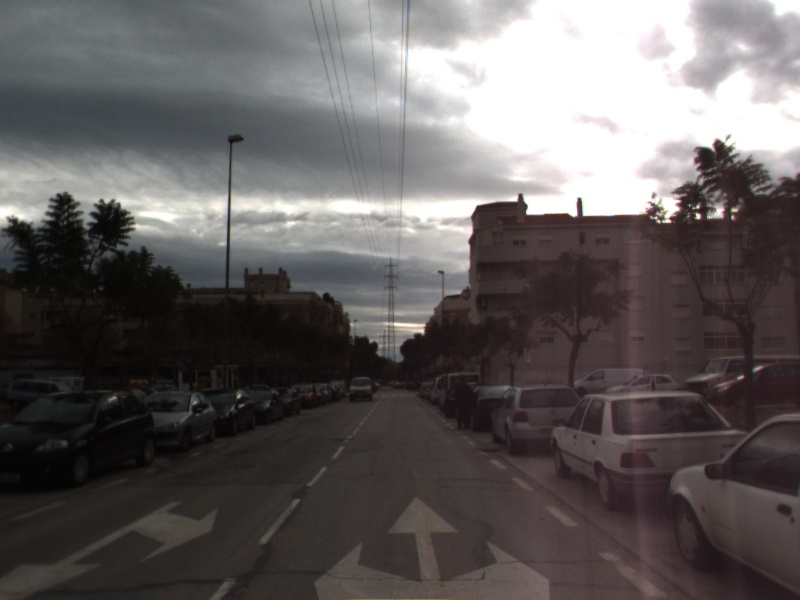STRAIGHT_LEFT_RIGHT: (311, 493, 554, 600)
